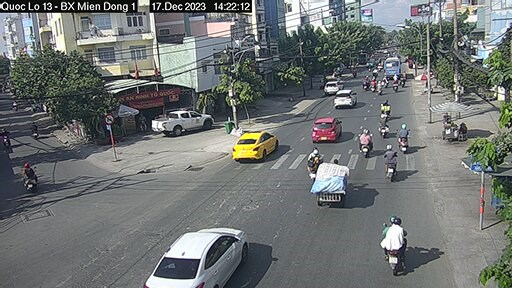bus: (385, 58, 402, 80)
car: (164, 224, 246, 288), (230, 126, 281, 163), (152, 109, 217, 138), (311, 113, 346, 145), (335, 90, 358, 108), (322, 81, 346, 97)
motorbike: (384, 218, 414, 281), (359, 126, 377, 158), (391, 127, 410, 150), (385, 149, 399, 176)
